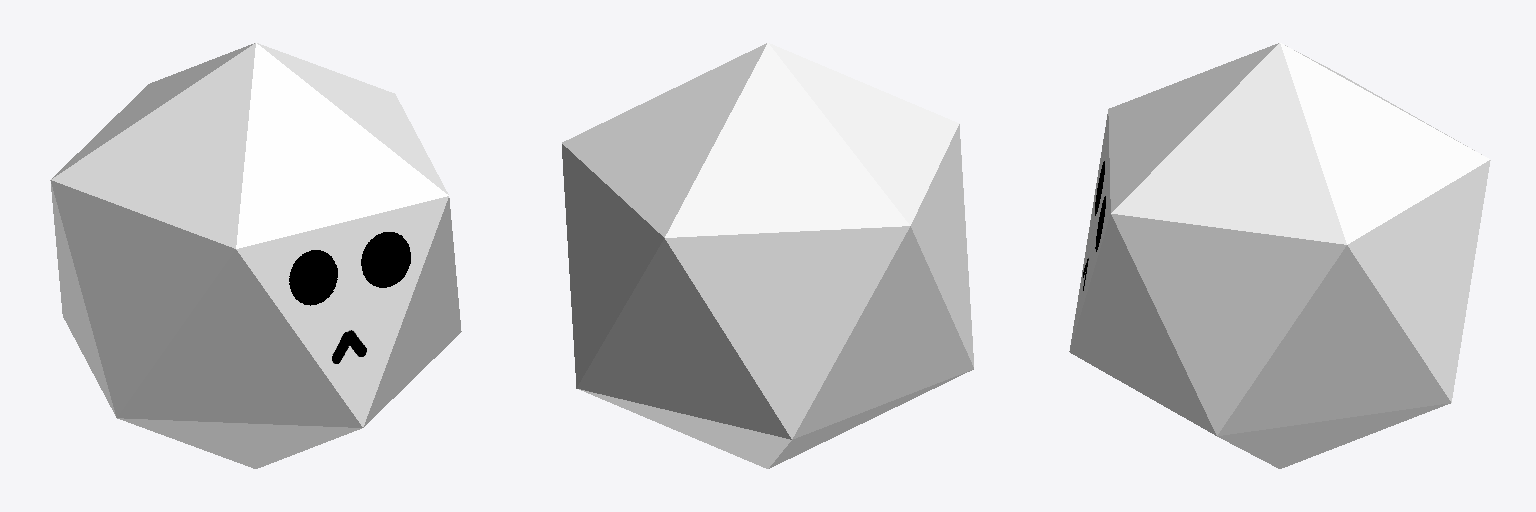
3 renders of one model, left to right at view 1: azimuth 30°, elevation 25°; view 2: azimuth 150°, elevation 25°; view 3: azimuth 270°, elevation 25°, orthographic.
Parts seen in each view (by area): view 1: Icosphere; view 2: Icosphere; view 3: Icosphere.
Part boxes in pixels (left/top/right/bottom): Icosphere: left=50, top=43, right=461, bottom=468; Icosphere: left=562, top=43, right=973, bottom=468; Icosphere: left=1069, top=43, right=1490, bottom=468.
Bounding box in the file's own units: 1.71 × 2 × 1.79.
Materials: 1 (1 with a texture image).